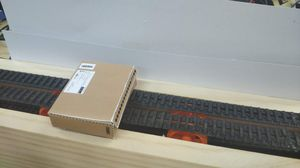box2: (45, 59, 138, 140)
